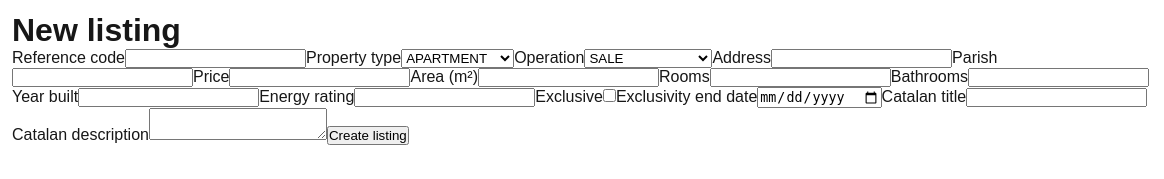
New listing page › shows the server's error message when the reference code is already taken
Type "P-DUP" into the field labelled "Reference code" at (216, 58), box [125,49,306,68]
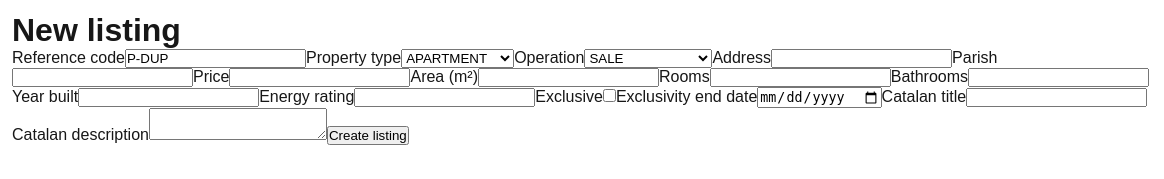
Type "1000" into the number field labelled "Price" at (320, 78), box [230,68,410,87]
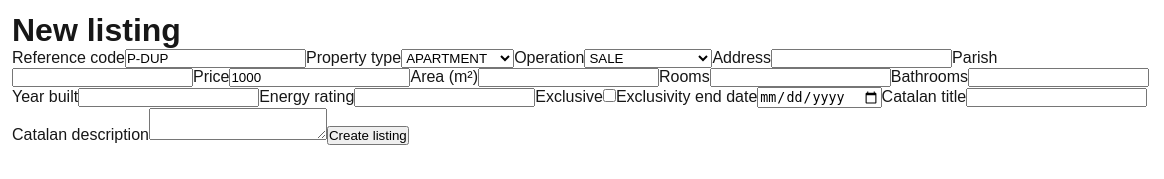
Type "X" into the field labelled "Catalan title" at (1057, 98), box [966,88,1147,107]
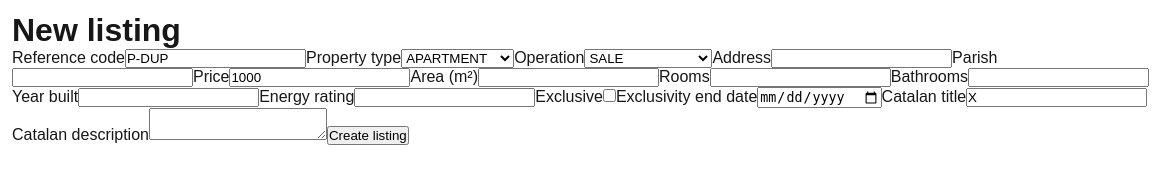
Click the button "Create listing" at (368, 136), box [327,126,409,145]
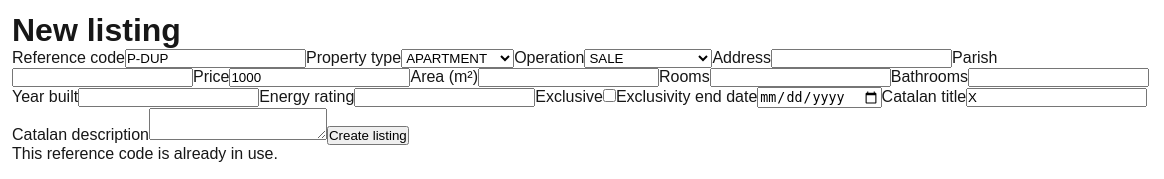
Expected: the text "This reference code is already in use." is shown, [12,145,278,162]
